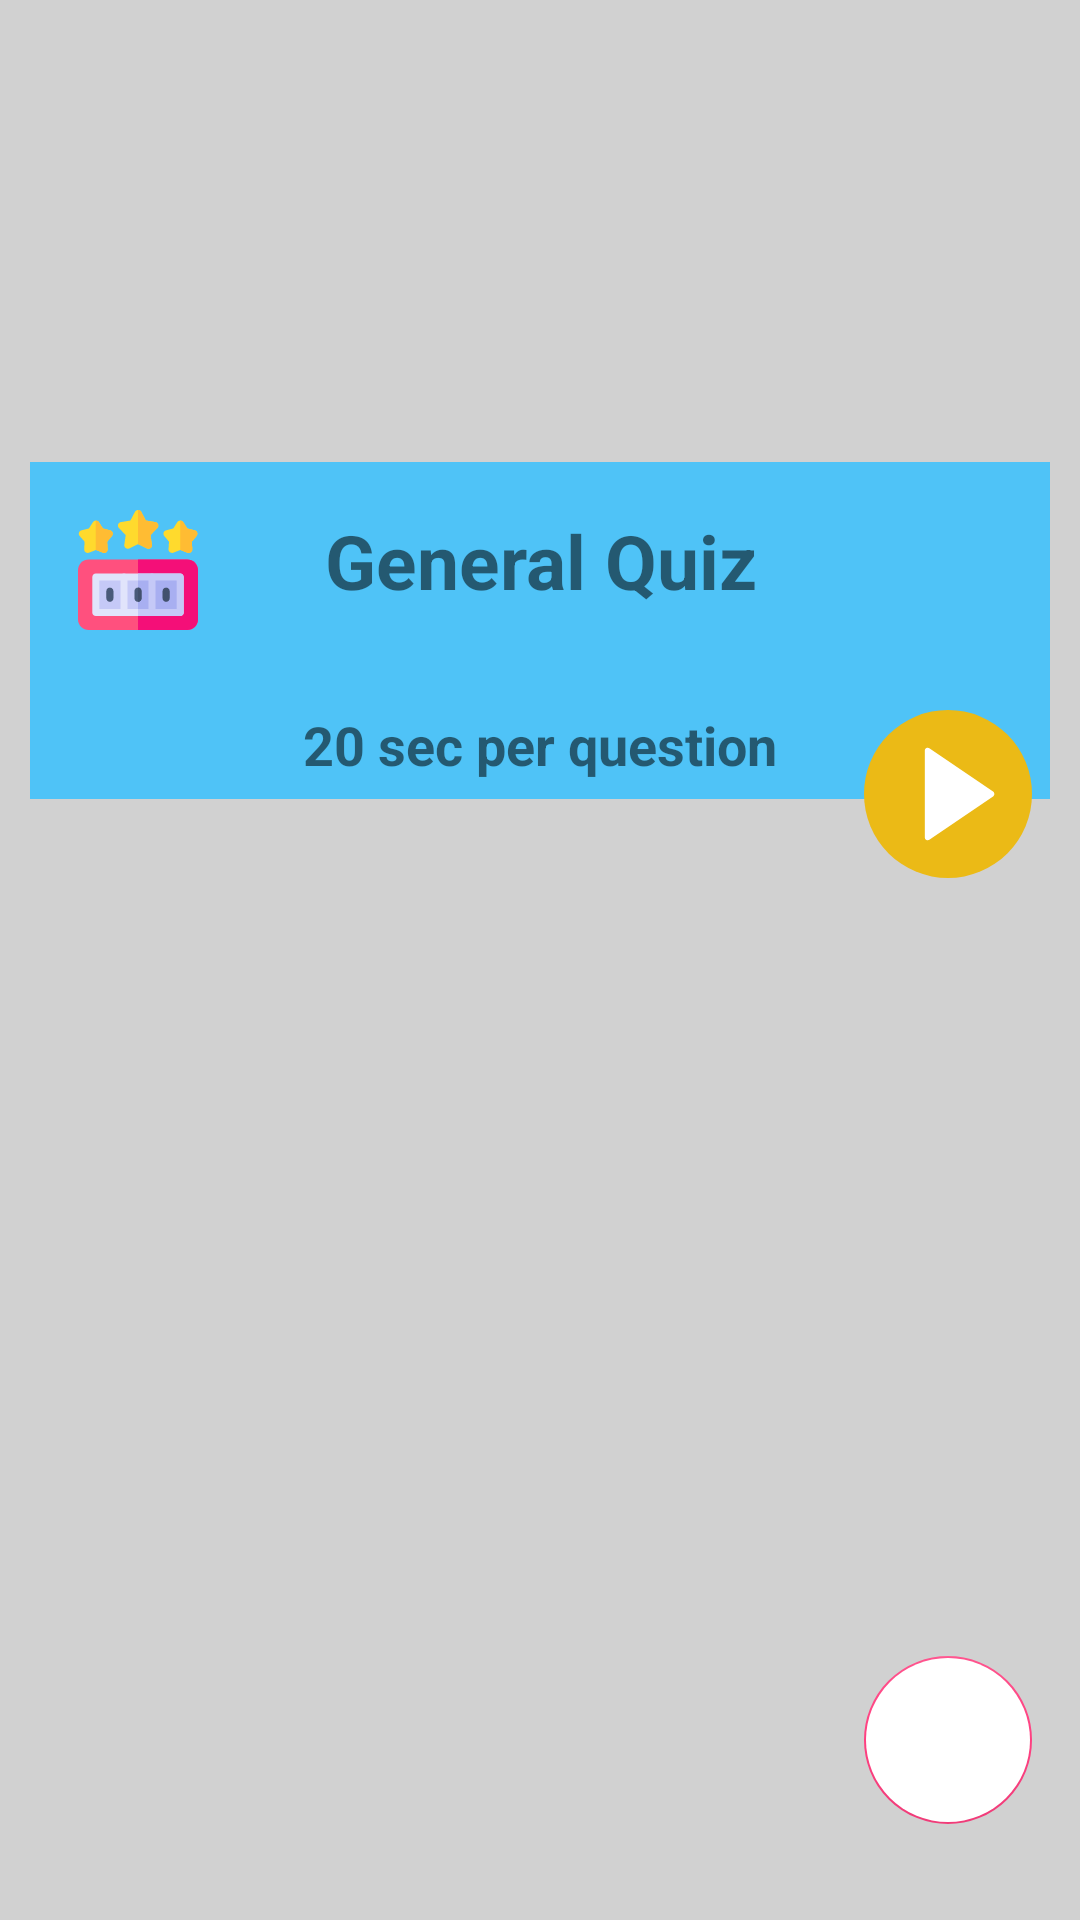

Icon click points for this 1080px×1920px phone screenshot, format point (x, y):
play: point (948, 794)
score: point (138, 570)
